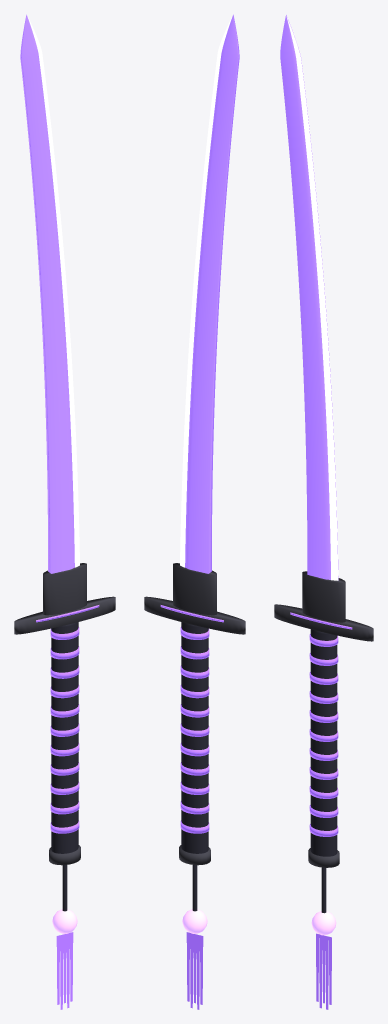
File: katana.glb
3 renders of one model, left to right at view 1: azimuth 30°, elevation 25°; view 2: azimuth 150°, elevation 25°; view 3: azimuth 330°, elevation 25°, orthographic.
Visible parts, largest first — view 1: Katana; view 2: Katana; view 3: Katana.
Boxes of the visible parts, x1,y1,x2,y2 form: Katana: (14, 14, 115, 1009); Katana: (144, 14, 245, 1009); Katana: (274, 14, 373, 1009).
Size of the model in its own units: 0.184 by 1.74 by 0.0414.
